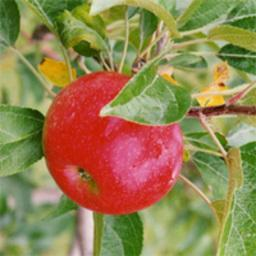apple: (42, 70, 186, 213)
